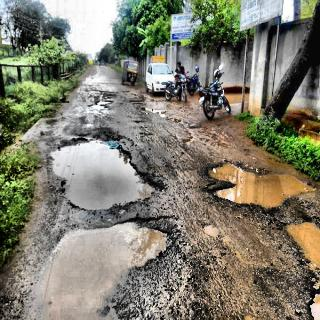pothole: (32, 131, 180, 316), (200, 132, 320, 319)
